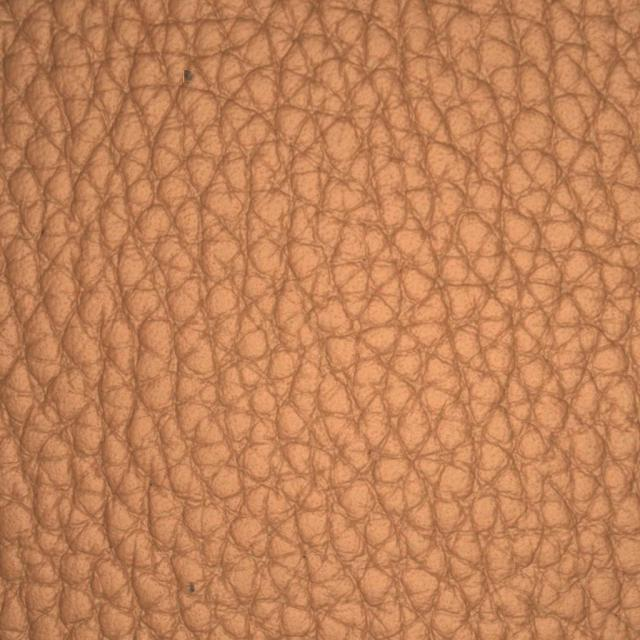pinhole: (85, 16, 298, 136)
